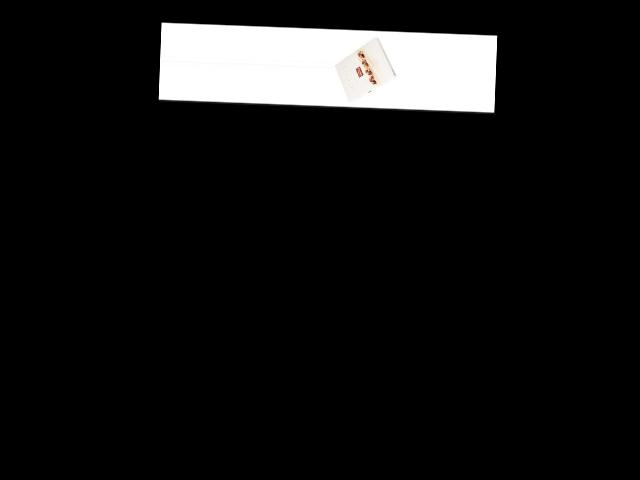chocolate: (334, 30, 399, 103)
